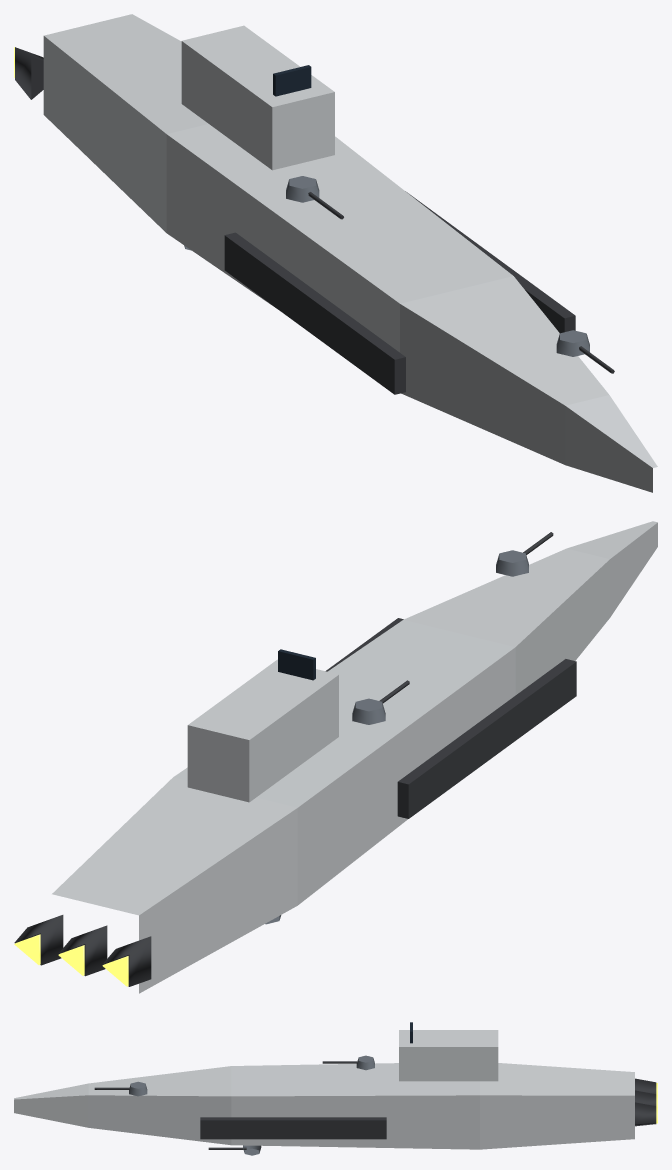
File: space_ship_destroyer_mk1_lod2.glb
The picture shows the model from 3 angles, top to bottom: view 1: azimuth 30°, elevation 25°; view 2: azimuth 150°, elevation 25°; view 3: azimuth 270°, elevation 25°; orthographic projection. The views are drawn at different scales.
Visible parts, largest first — view 1: body, engine_0, turret_0, turret_2; view 2: body, engine_0, engine_1, engine_2, turret_2, turret_0; view 3: body, engine_2, turret_2, turret_0, engine_1, engine_0, turret_1.
Boxes of the visible parts, x1=… form: body: x1=43, y1=14, x2=657, y2=492; engine_0: x1=14, y1=47, x2=43, y2=99; turret_0: x1=556, y1=330, x2=614, y2=373; turret_2: x1=286, y1=176, x2=343, y2=219; body: x1=52, y1=521, x2=657, y2=993; engine_0: x1=102, y1=936, x2=151, y2=986; engine_1: x1=58, y1=925, x2=107, y2=976; engine_2: x1=14, y1=915, x2=63, y2=965; turret_2: x1=352, y1=680, x2=409, y2=724; turret_0: x1=496, y1=532, x2=553, y2=576; body: x1=14, y1=1022, x2=634, y2=1149; engine_2: x1=635, y1=1102, x2=657, y2=1126; turret_2: x1=322, y1=1055, x2=374, y2=1070; turret_0: x1=94, y1=1081, x2=147, y2=1096; engine_1: x1=635, y1=1090, x2=657, y2=1106; engine_0: x1=635, y1=1078, x2=657, y2=1094; turret_1: x1=208, y1=1145, x2=261, y2=1155.
Bounding box in the file's own units: 8.1 × 9.14 × 45.62.
